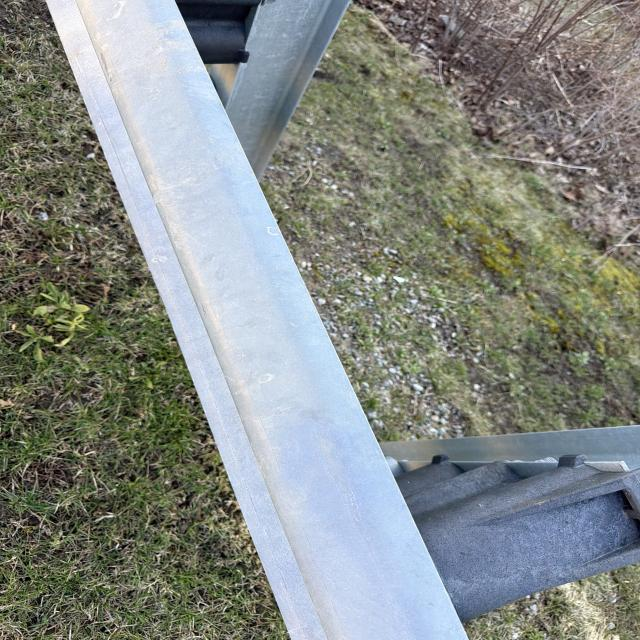Guard rail: (42, 6, 617, 594), (383, 452, 638, 613)
